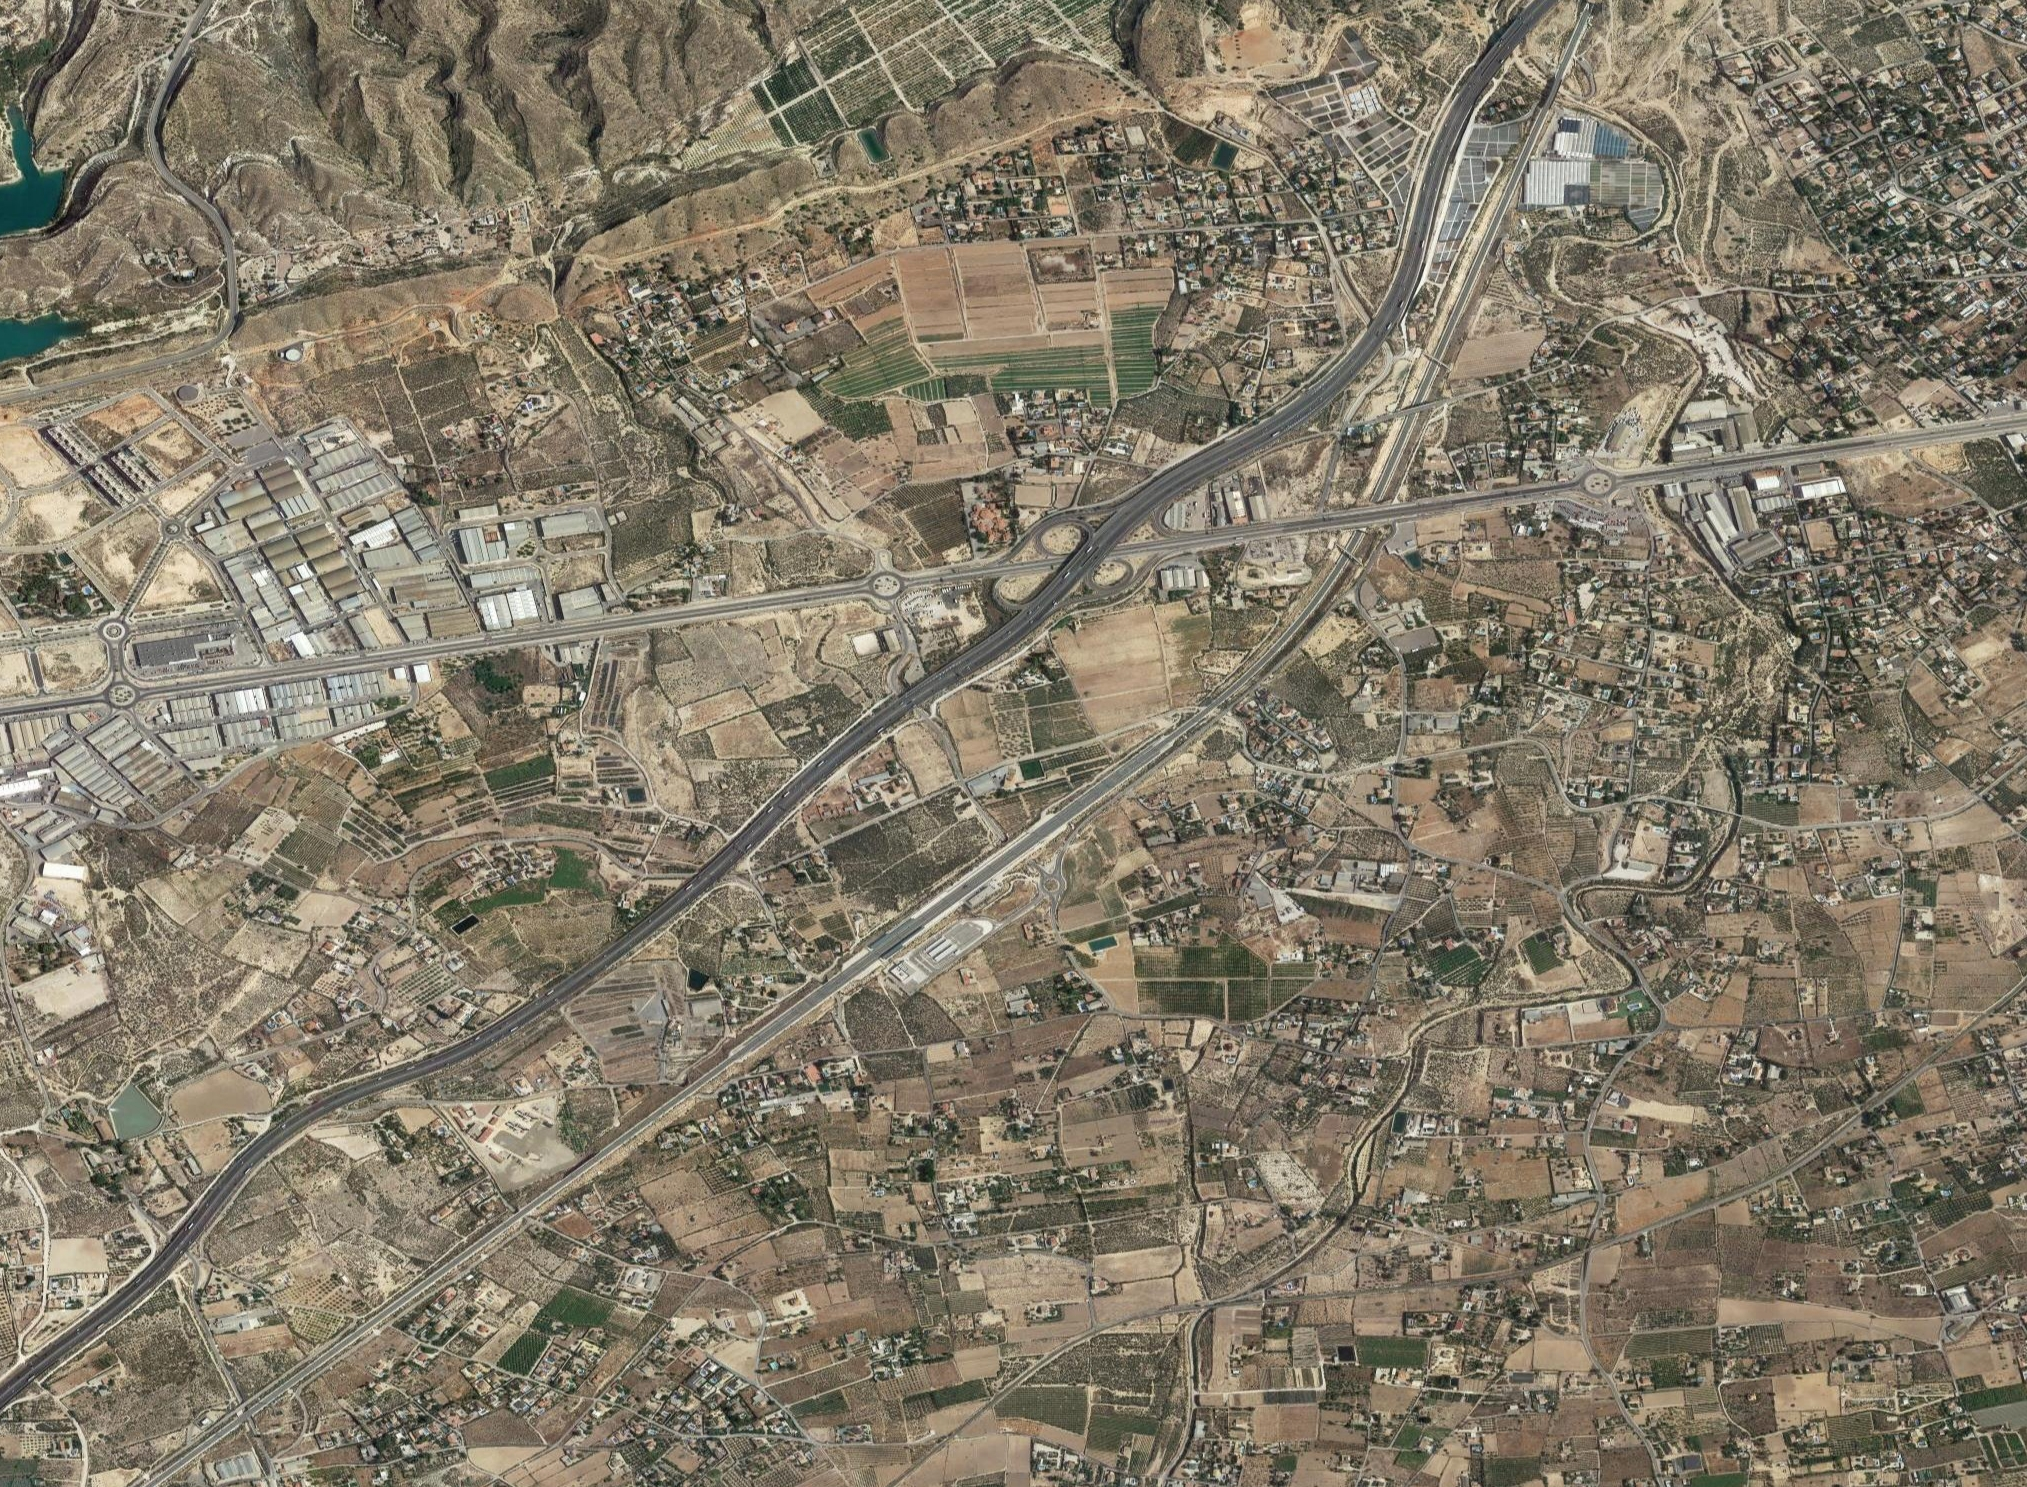industrial: (5, 452, 493, 780)
motorway: (807, 533, 1106, 780), (1102, 299, 1401, 544), (1386, 2, 1601, 305), (537, 780, 807, 1007), (227, 987, 537, 1174), (2, 1158, 230, 1404), (1136, 541, 1353, 768), (127, 1303, 382, 1487), (386, 1127, 641, 1311), (637, 943, 892, 1127), (884, 760, 1139, 944), (502, 549, 807, 658), (1410, 437, 1731, 529), (1728, 390, 2027, 480), (205, 626, 496, 699)
